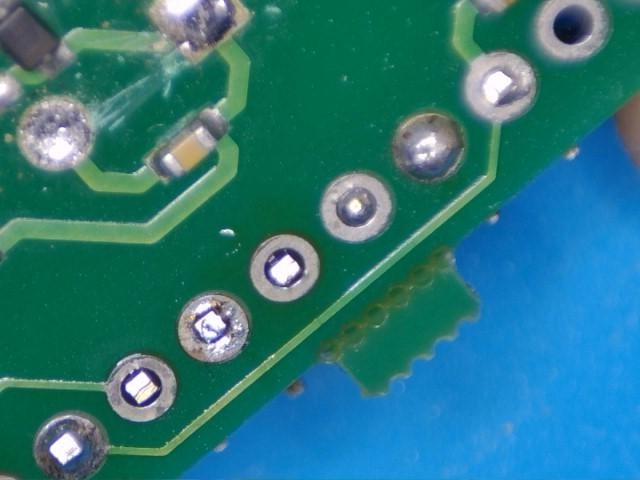pcb_defect: (465, 53, 536, 120), (322, 175, 392, 242), (178, 295, 248, 362), (395, 114, 465, 181), (21, 100, 89, 165)
